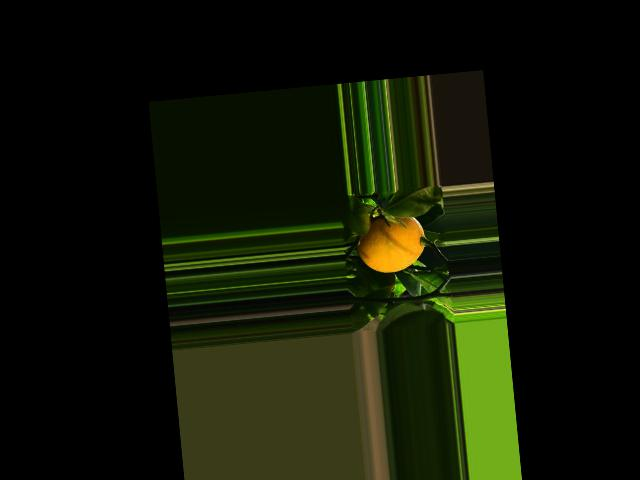lemon: (352, 206, 431, 280)
